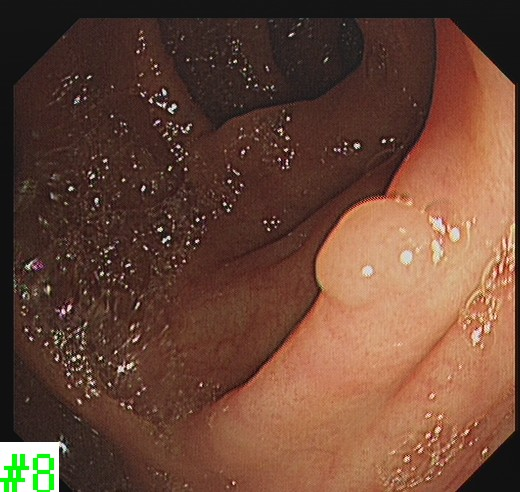adenoma: (312, 192, 445, 311)
